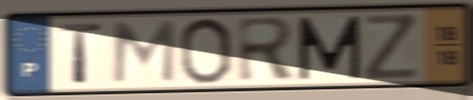M: (296, 13, 363, 83), (109, 18, 177, 85)
O: (177, 15, 235, 86)
R: (235, 15, 300, 85)
T: (58, 21, 105, 86)
Z: (362, 12, 422, 82)
